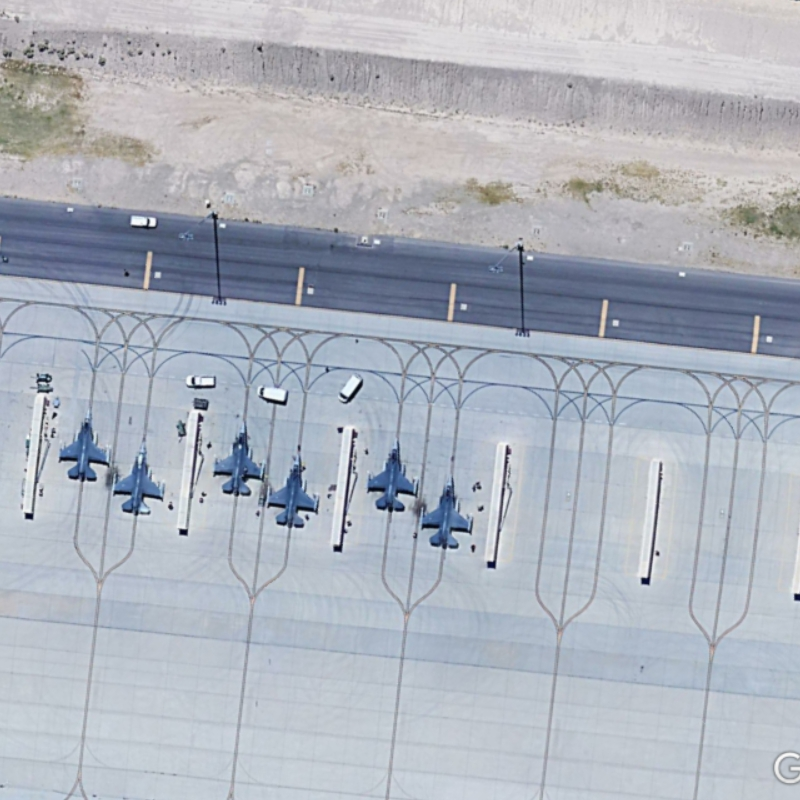A5: (355, 428, 426, 516), (416, 466, 478, 554), (262, 445, 326, 530), (53, 402, 115, 489), (210, 417, 270, 503), (111, 435, 169, 520)
